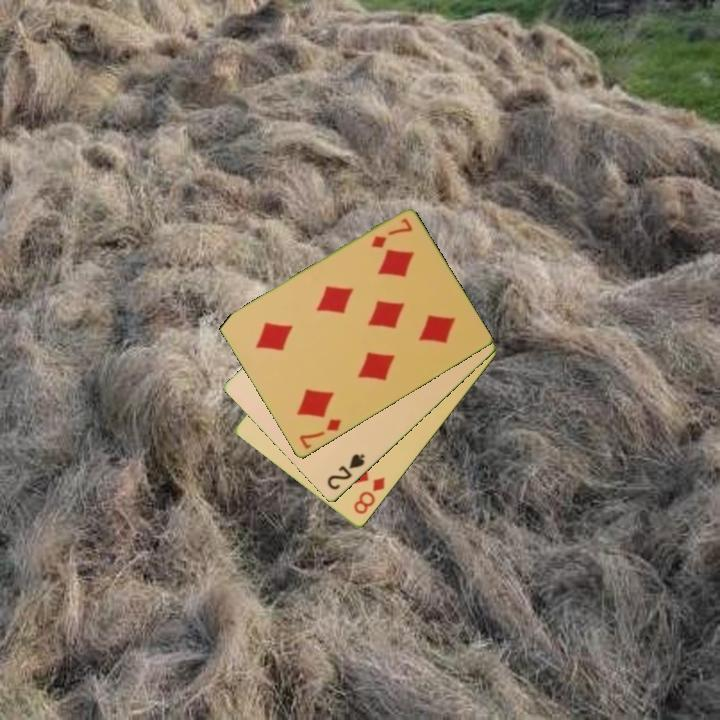2s: (324, 450, 368, 493)
7d: (368, 214, 415, 252), (296, 415, 344, 452)
8d: (350, 474, 388, 518)
